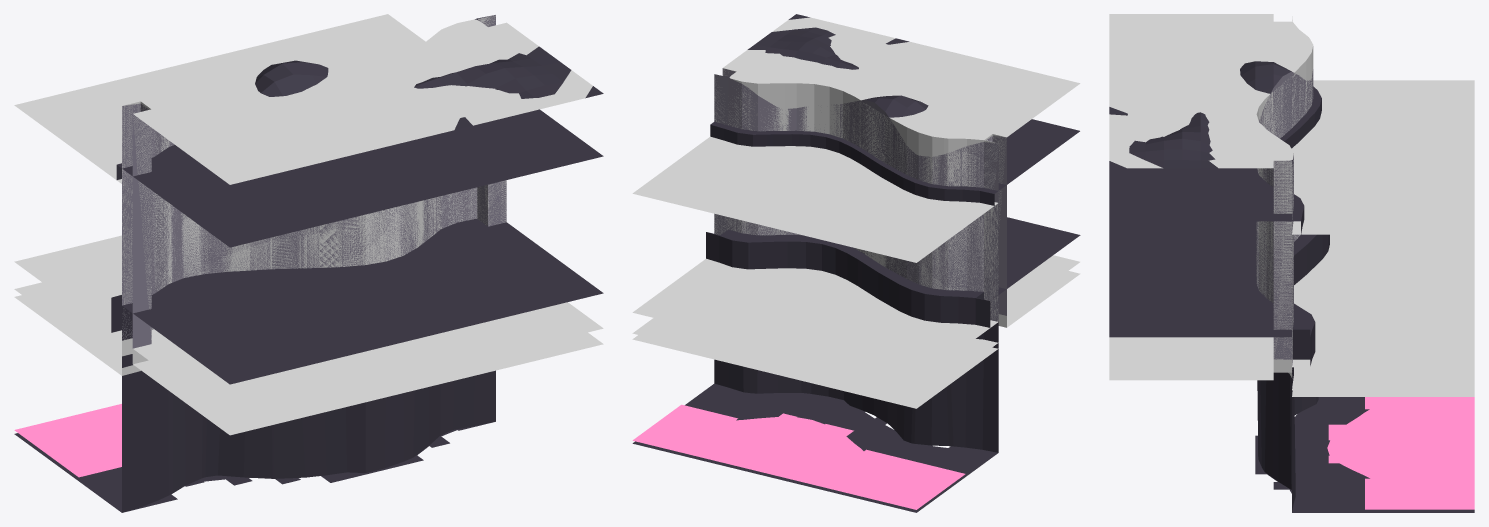
Rendered from Tile_LLWW.fbx.
3 renders of one model, left to right at view 1: azimuth 30°, elevation 25°; view 2: azimuth 150°, elevation 25°; view 3: azimuth 270°, elevation 25°, orthographic. The views are drawn at different scales.
Parts seen in each view (by area): view 1: Tile_LLWW, Tile_LLWW_ColWall, Tile_LLWW_ColCrackBlocker, Tile_LLWW_ColGround, Tile_LLWW_ColCrackSurface; view 2: Tile_LLWW, Tile_LLWW_ColCrackBlocker, Tile_LLWW_ColWall, Tile_LLWW_ColCrackSurface, Tile_LLWW_ColGround; view 3: Tile_LLWW, Tile_LLWW_ColCrackBlocker, Tile_LLWW_ColWall, Tile_LLWW_ColGround, Tile_LLWW_ColCrackSurface.
Boxes of the visible parts, box(x1,y1,x2,y2) form: Tile_LLWW: box(14, 15, 603, 512); Tile_LLWW_ColWall: box(122, 15, 601, 419); Tile_LLWW_ColCrackBlocker: box(14, 14, 477, 340); Tile_LLWW_ColGround: box(122, 302, 603, 435); Tile_LLWW_ColCrackSurface: box(14, 282, 140, 375); Tile_LLWW: box(632, 14, 1080, 512); Tile_LLWW_ColCrackBlocker: box(632, 136, 998, 381); Tile_LLWW_ColWall: box(714, 17, 1080, 315); Tile_LLWW_ColCrackSurface: box(632, 318, 998, 408); Tile_LLWW_ColGround: box(998, 255, 1080, 327); Tile_LLWW: box(1109, 61, 1474, 512); Tile_LLWW_ColCrackBlocker: box(1256, 80, 1474, 367); Tile_LLWW_ColWall: box(1109, 14, 1313, 367); Tile_LLWW_ColGround: box(1109, 337, 1292, 380); Tile_LLWW_ColCrackSurface: box(1288, 367, 1474, 396).
Size of the model in its own units: 5 by 5.38 by 5.
